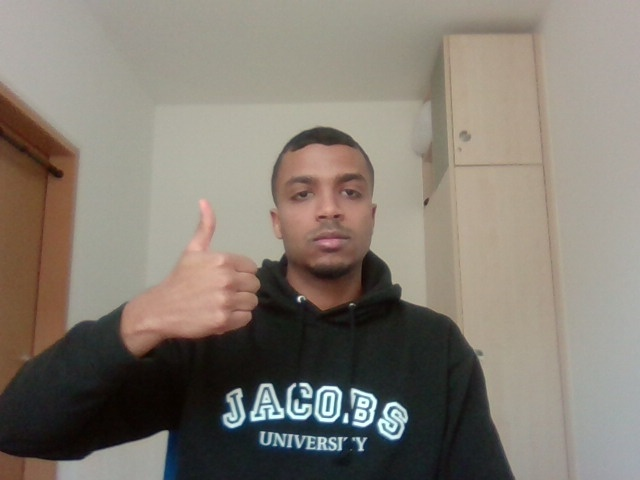perfect: (129, 182, 275, 368)
